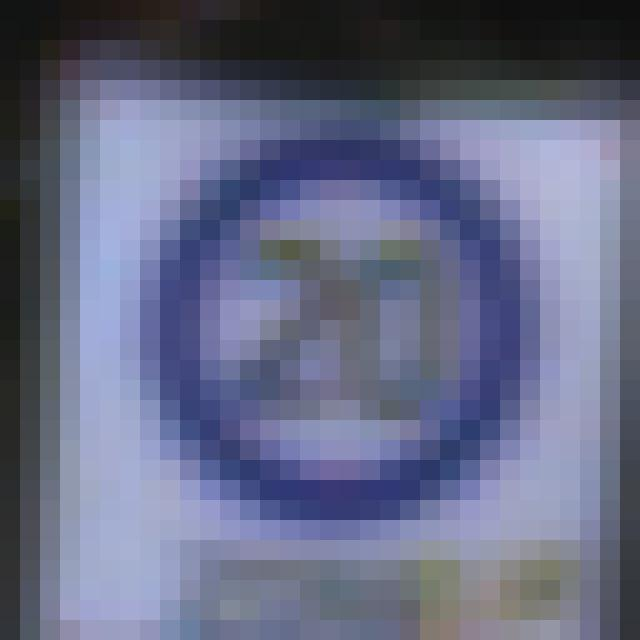SPEED LIMIT 20: (155, 152, 529, 514)
